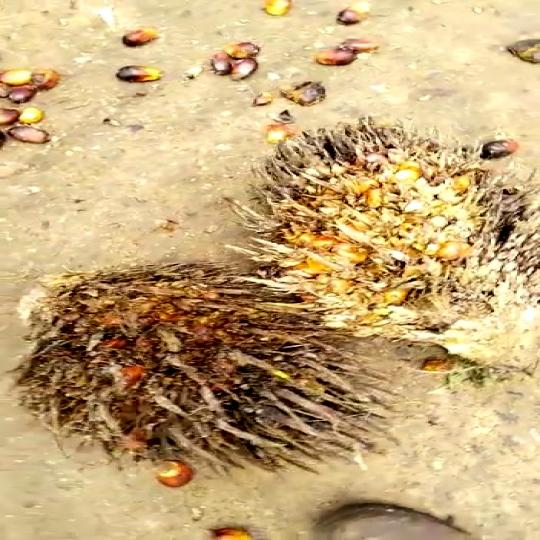terlalu masak: (20, 252, 357, 470), (233, 130, 540, 339)
